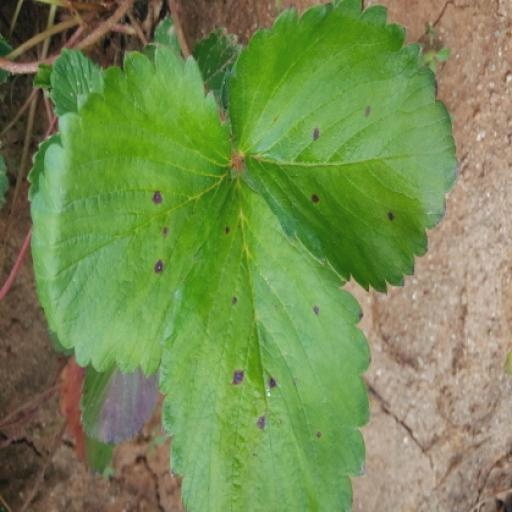Leaf Spot: (157, 0, 371, 350), (220, 217, 460, 511), (28, 135, 236, 470)
